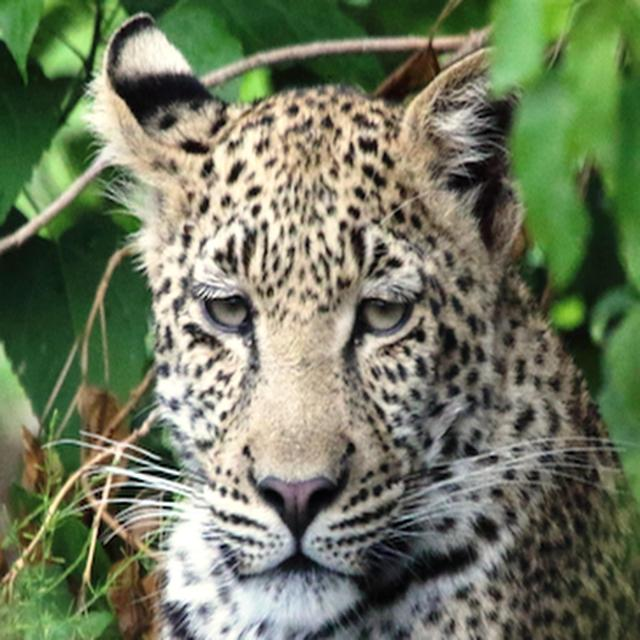Leopard: (14, 28, 640, 640)
